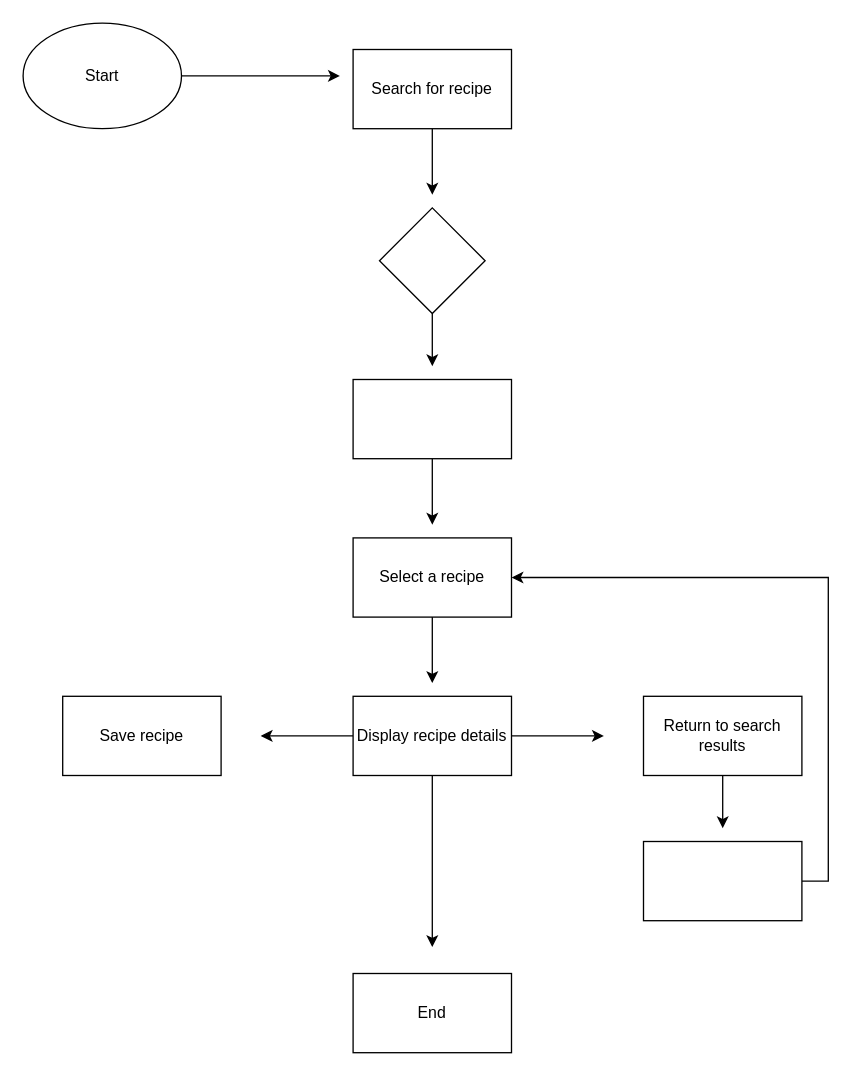
Some shapes in this 862 by 1076 pixel diagram are drawn without their labels. Here are the shapes that lost their labels. From the top down, the centre of each, then its label:
At point (431, 260): "API request".
At point (432, 418): "Display search results".
At point (722, 880): "Refine search".
